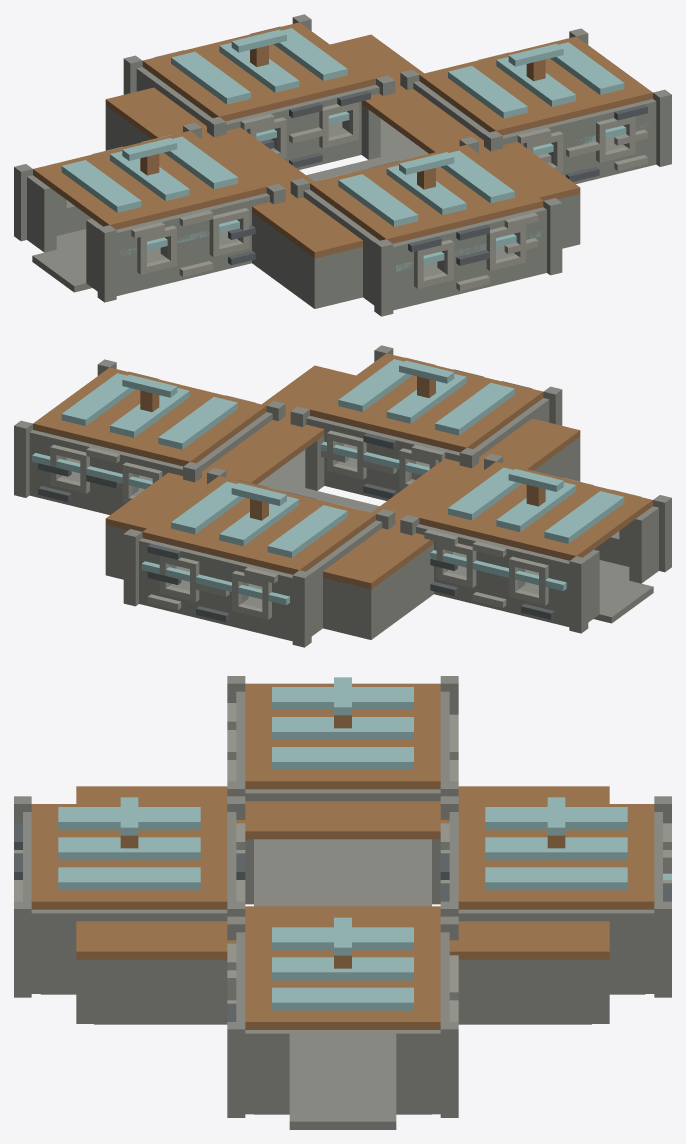
File: communal_archive.glb
The picture shows the model from 3 angles, top to bottom: view 1: azimuth 30°, elevation 25°; view 2: azimuth 150°, elevation 25°; view 3: azimuth 270°, elevation 25°; orthographic projection. The views are drawn at different scales.
Parts seen in each view (by area): view 1: communal_archive/exterior_details, communal_archive/room_walls, communal_archive/roof_room_3, communal_archive/roof_room_2, communal_archive/roof_room_0, communal_archive/roof_room_1, communal_archive/corridor_walls, communal_archive/corridor_roof_1, communal_archive/floor_mesh, communal_archive/corridor_roof_10, communal_archive/corridor_roof_4, communal_archive/corridor_roof_7 (+4 smaller); view 2: communal_archive/exterior_details, communal_archive/room_walls, communal_archive/roof_room_3, communal_archive/roof_room_1, communal_archive/roof_room_0, communal_archive/roof_room_2, communal_archive/corridor_walls, communal_archive/corridor_roof_4, communal_archive/floor_mesh, communal_archive/corridor_roof_7, communal_archive/corridor_roof_1, communal_archive/corridor_roof_10 (+5 smaller); view 3: communal_archive/room_walls, communal_archive/floor_mesh, communal_archive/roof_room_0, communal_archive/roof_room_1, communal_archive/roof_room_2, communal_archive/corridor_walls, communal_archive/roof_room_3, communal_archive/exterior_details, communal_archive/corridor_roof_1, communal_archive/corridor_roof_7, communal_archive/corridor_roof_4, communal_archive/corridor_roof_10 (+3 smaller).
Part boxes in pixels (x1,y1,x2,y2): communal_archive/exterior_details: (14,14,671,316); communal_archive/room_walls: (27,67,656,310); communal_archive/roof_room_3: (419,36,652,135); communal_archive/roof_room_2: (310,145,543,243); communal_archive/roof_room_0: (33,130,266,229); communal_archive/roof_room_1: (142,22,375,121); communal_archive/corridor_walls: (105,105,580,308); communal_archive/corridor_roof_1: (105,87,302,183); communal_archive/floor_mesh: (32,118,614,292); communal_archive/corridor_roof_10: (384,102,579,200); communal_archive/corridor_roof_4: (252,173,362,258); communal_archive/corridor_roof_7: (331,35,460,149); communal_archive/exterior_details: (14,345,671,647); communal_archive/room_walls: (29,398,658,641); communal_archive/roof_room_3: (33,367,266,466); communal_archive/roof_room_1: (142,476,375,574); communal_archive/roof_room_0: (419,461,652,560); communal_archive/roof_room_2: (310,353,543,452); communal_archive/corridor_walls: (105,436,580,639); communal_archive/corridor_roof_4: (384,418,580,514); communal_archive/floor_mesh: (66,443,653,623); communal_archive/corridor_roof_7: (105,432,302,530); communal_archive/corridor_roof_1: (323,488,433,589); communal_archive/corridor_roof_10: (255,366,353,480); communal_archive/room_walls: (23,691,662,1114); communal_archive/floor_mesh: (40,839,645,1129); communal_archive/roof_room_0: (245,677,440,789); communal_archive/roof_room_1: (458,797,654,909); communal_archive/roof_room_2: (31,797,227,909); communal_archive/corridor_walls: (76,839,609,1023); communal_archive/roof_room_3: (245,917,440,1029); communal_archive/exterior_details: (14,676,671,1117); communal_archive/corridor_roof_1: (289,786,609,839); communal_archive/corridor_roof_7: (289,906,609,959); communal_archive/corridor_roof_4: (76,786,396,839); communal_archive/corridor_roof_10: (76,906,395,959).
Bounding box in the file's own units: 48 × 8.5 × 37.
